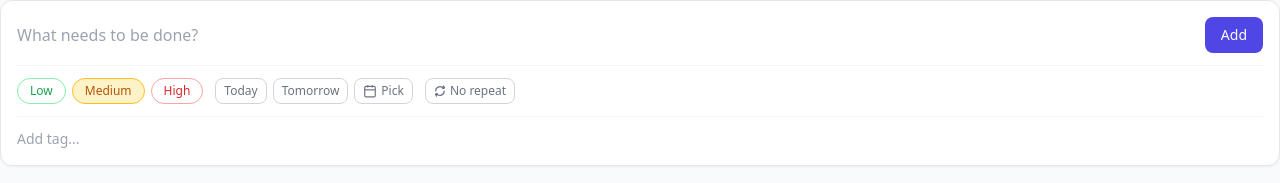
Test: TaskInput – tag management › adds a tag on Enter and renders it as a chip
Type "work" into the field labelled "Add tag..." at (118, 139), box [17,129,219,149]
Then press Enter
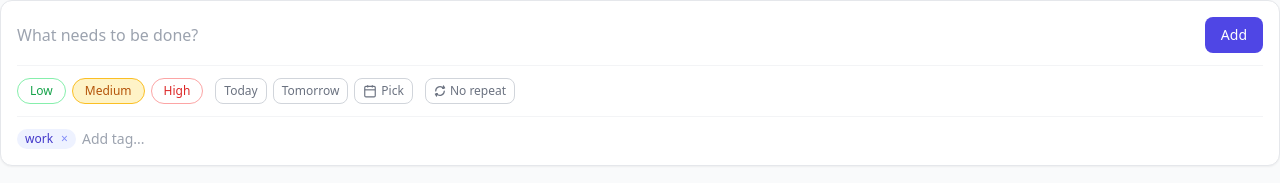
Expected: the text "work" is shown, [25,130,53,147]
